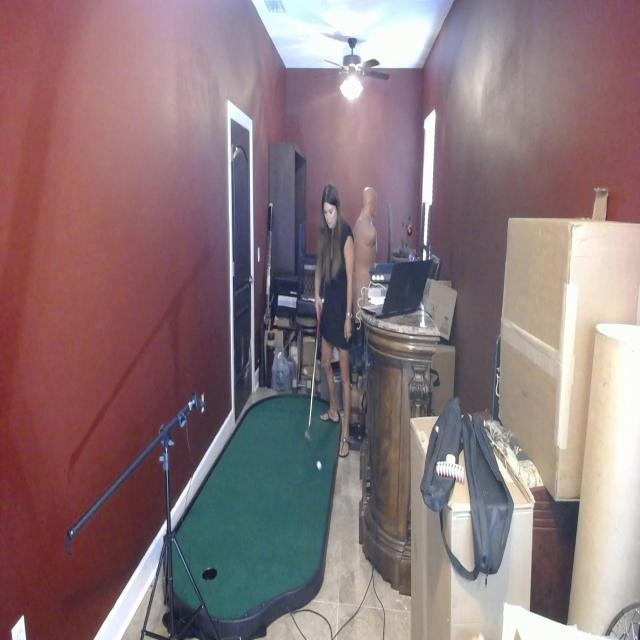ClubHead: (303, 417, 313, 443)
GolfBall: (315, 460, 323, 472)
